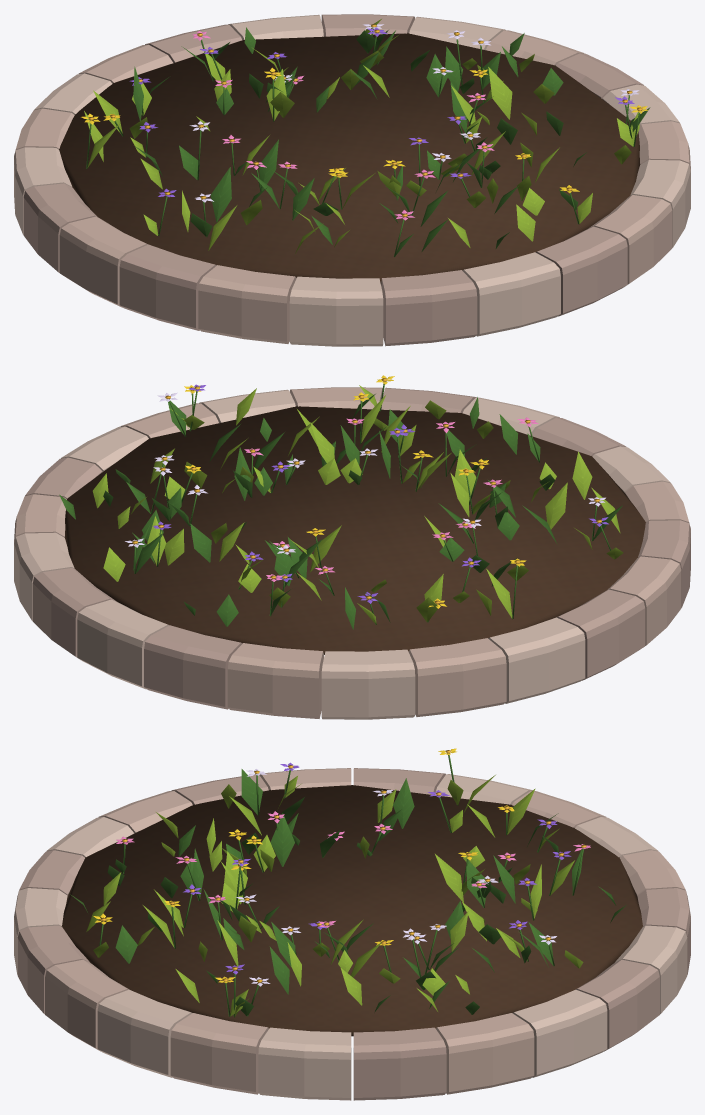
File: planter.glb
The picture shows the model from 3 angles, top to bottom: view 1: azimuth 30°, elevation 25°; view 2: azimuth 150°, elevation 25°; view 3: azimuth 270°, elevation 25°; orthographic projection.
Visible parts, largest first — view 1: Soil bed, Radius-cut limestone planter block, Flower stem, Planter foliage.001, Pollinator flowers, Pollen disc; view 2: Soil bed, Radius-cut limestone planter block, Flower stem, Planter foliage.001, Pollinator flowers, Pollen disc; view 3: Soil bed, Radius-cut limestone planter block, Flower stem, Planter foliage.001, Pollinator flowers, Pollen disc.
Boxes of the visible parts, x1,y1,x2,y2 form: Soil bed: [59, 33, 640, 284]; Radius-cut limestone planter block: [14, 14, 690, 346]; Flower stem: [86, 27, 650, 256]; Planter foliage.001: [84, 19, 639, 253]; Pollinator flowers: [81, 24, 647, 220]; Pollen disc: [88, 24, 642, 217]; Soil bed: [64, 406, 645, 654]; Radius-cut limestone planter block: [14, 387, 690, 719]; Flower stem: [59, 384, 622, 629]; Planter foliage.001: [92, 385, 623, 624]; Pollinator flowers: [125, 375, 608, 608]; Pollen disc: [132, 378, 601, 604]; Soil bed: [61, 785, 643, 1036]; Radius-cut limestone planter block: [14, 768, 690, 1100]; Flower stem: [70, 755, 626, 1017]; Planter foliage.001: [86, 775, 583, 1016]; Pollinator flowers: [93, 748, 590, 986]; Pollen disc: [101, 750, 586, 983].
Bounding box in the file's own units: 2.1 × 0.3631 × 2.1.
6 materials, 3 textured.
